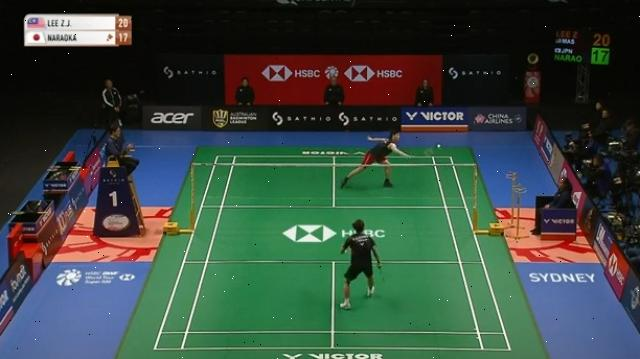Shuttlecock: (434, 142, 442, 152)
